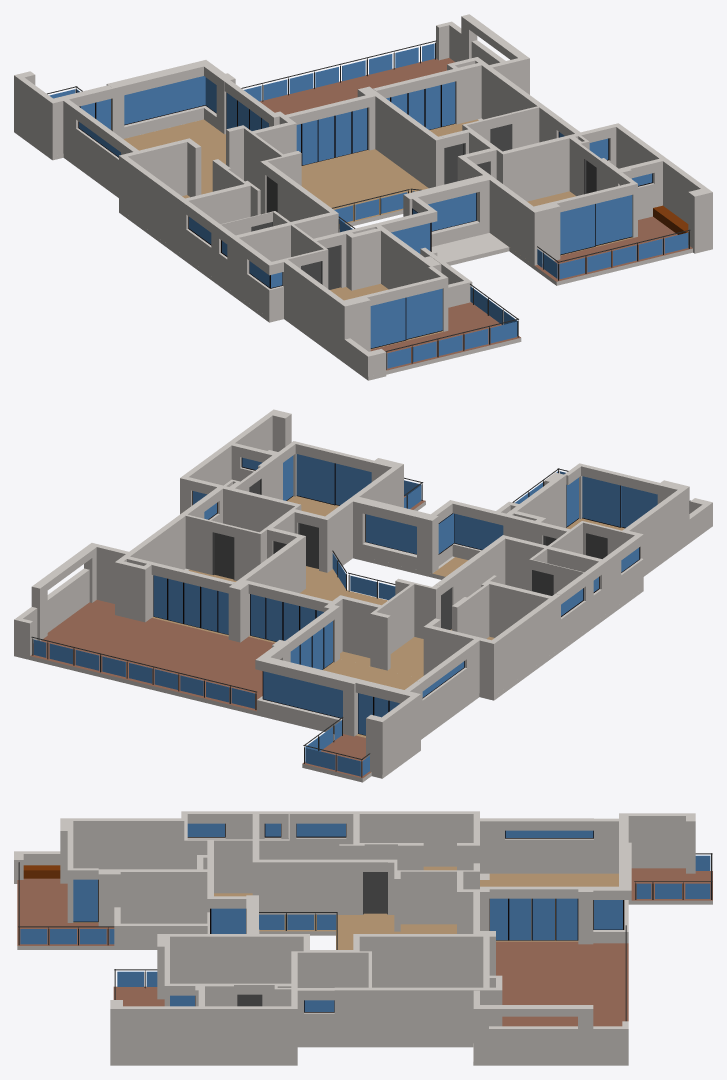
The model's file is FirstFloor.fbx.
The picture shows the model from 3 angles, top to bottom: view 1: azimuth 30°, elevation 25°; view 2: azimuth 150°, elevation 25°; view 3: azimuth 270°, elevation 25°; orthographic projection.
Parts seen in each view (by area): view 1: Box059, Box050, Box046, Box054, Box055, Box041, Box043, Box051, Box048, Box045, Box047, Box040 (+22 smaller); view 2: Box059, Box050, Box046, Box055, Box047, Box054, Box052, Box041, Box048, Box051, Box043, Box045 (+23 smaller); view 3: Box059, Box050, Box046, Box051, Box055, Box052, Box041, Box043, Box045, Box048, Box047, Box054 (+29 smaller).
Part boxes in pixels (left/top/right/bottom): Box059: left=14, top=58, right=712, bottom=380; Box050: left=76, top=108, right=260, bottom=257; Box046: left=227, top=163, right=343, bottom=318; Box054: left=441, top=113, right=599, bottom=201; Box055: left=373, top=57, right=561, bottom=148; Box041: left=272, top=255, right=386, bottom=376; Box043: left=340, top=197, right=469, bottom=307; Box051: left=581, top=123, right=712, bottom=249; Box048: left=285, top=86, right=444, bottom=188; Box045: left=457, top=154, right=560, bottom=265; Box047: left=224, top=80, right=301, bottom=214; Box040: left=14, top=71, right=112, bottom=162; Box059: left=14, top=496, right=712, bottom=782; Box050: left=417, top=575, right=560, bottom=734; Box046: left=435, top=521, right=643, bottom=617; Box055: left=115, top=501, right=234, bottom=622; Box047: left=285, top=578, right=440, bottom=670; Box054: left=199, top=468, right=321, bottom=580; Box052: left=14, top=543, right=128, bottom=655; Box041: left=607, top=480, right=712, bottom=572; Box048: left=228, top=534, right=331, bottom=642; Box051: left=180, top=409, right=291, bottom=514; Box043: left=431, top=472, right=566, bottom=566; Box045: left=319, top=458, right=403, bottom=572; Box059: left=14, top=866, right=712, bottom=1065; Box050: left=339, top=811, right=593, bottom=873; Box046: left=181, top=811, right=387, bottom=914; Box051: left=110, top=990, right=297, bottom=1061; Box055: left=334, top=936, right=502, bottom=1043; Box052: left=473, top=990, right=628, bottom=1061; Box041: left=14, top=814, right=187, bottom=883; Box043: left=98, top=853, right=246, bottom=933; Box045: left=157, top=929, right=309, bottom=999; Box048: left=353, top=892, right=495, bottom=987; Box047: left=388, top=859, right=578, bottom=933; Box054: left=237, top=938, right=371, bottom=1043.
Size of the model in its own units: 795 by 107 by 1189.
